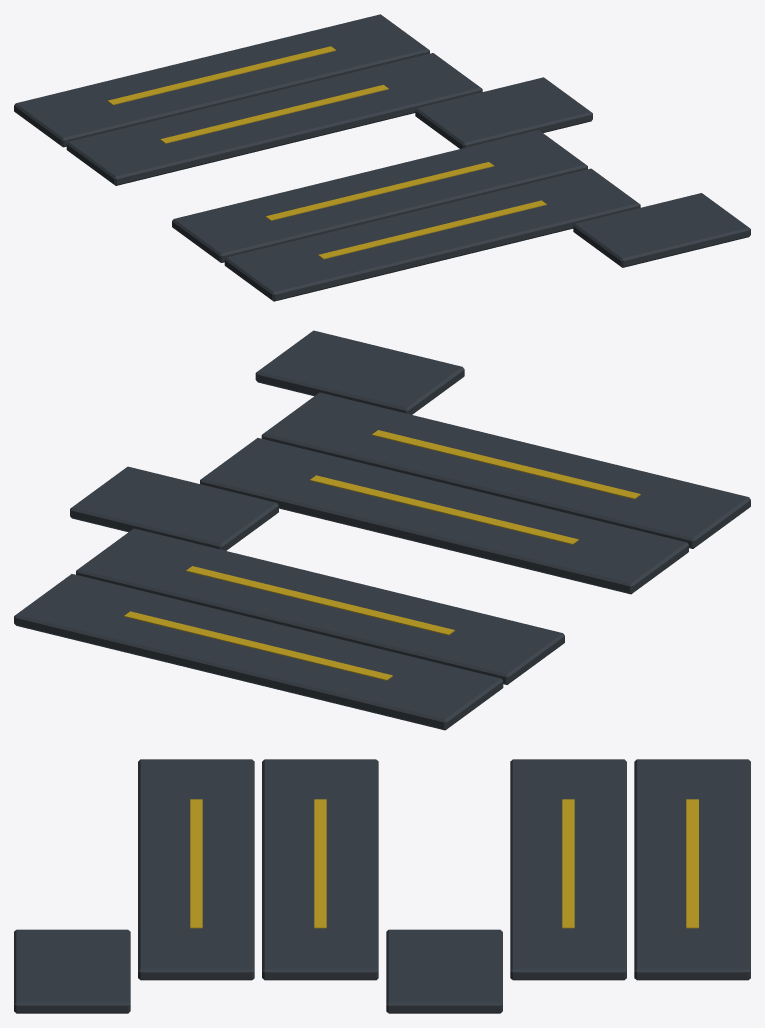
File: bk24_lids.obj
The picture shows the model from 3 angles, top to bottom: view 1: azimuth 30°, elevation 25°; view 2: azimuth 150°, elevation 25°; view 3: azimuth 270°, elevation 25°; orthographic projection. The views are drawn at different scales.
Parts seen in each view (by area): view 1: bk24_lids; view 2: bk24_lids; view 3: bk24_lids.
Boxes of the visible parts, left/top/right/bottom form: bk24_lids: left=14, top=14, right=750, bottom=301; bk24_lids: left=14, top=330, right=750, bottom=730; bk24_lids: left=14, top=759, right=750, bottom=1013.
Bounding box in the file's own units: 2.34 × 0.054 × 2.97.
